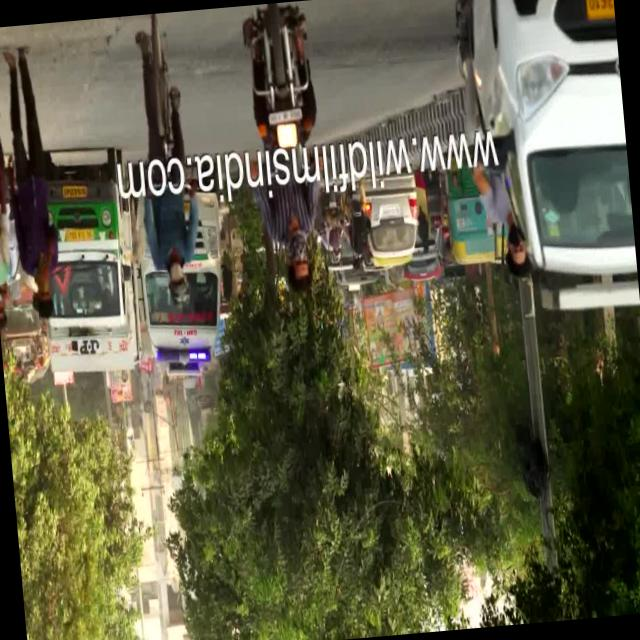ambulance: (140, 190, 232, 377)
